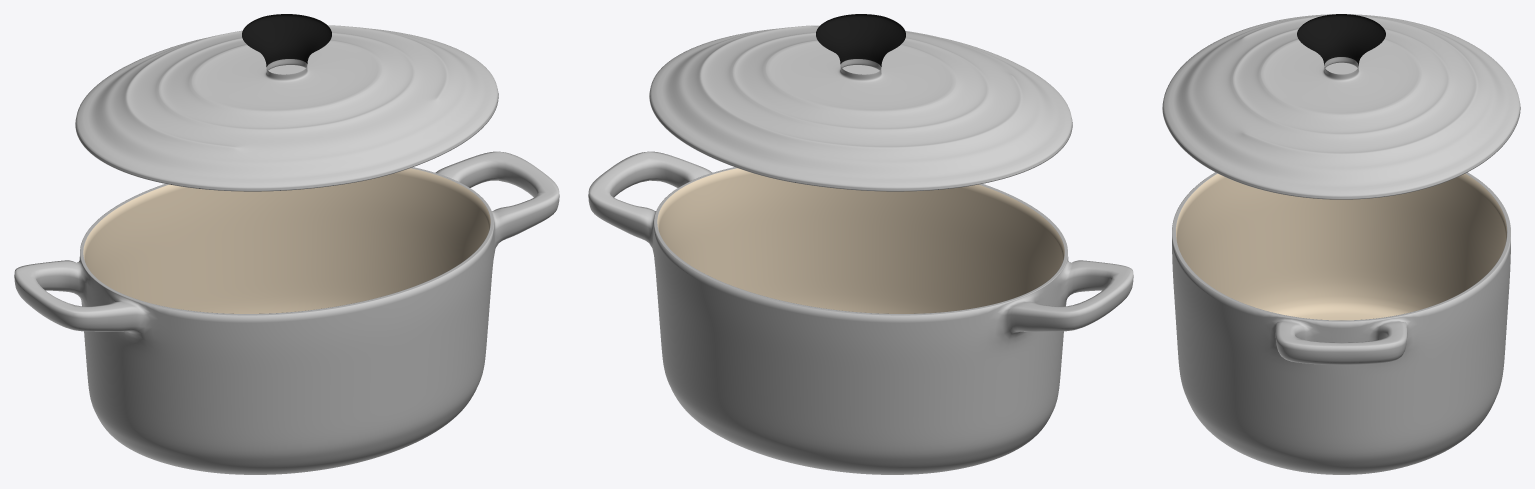
File: pot.gltf
3 views of the same model, side by side, from view 1: azimuth 30°, elevation 25°; view 2: azimuth 150°, elevation 25°; view 3: azimuth 270°, elevation 25° (orthographic). The views are drawn at different scales.
Visible parts, largest first — view 1: pot, llid; view 2: pot, llid; view 3: pot, llid.
Part boxes in pixels (x1,y1,x2,y2): pot: (14, 151, 559, 474); llid: (75, 14, 498, 191); pot: (588, 151, 1133, 474); llid: (649, 14, 1072, 191); pot: (1172, 172, 1510, 474); llid: (1162, 14, 1520, 199).
Bounding box in the file's own units: 0.3074 × 0.2222 × 0.1925.
